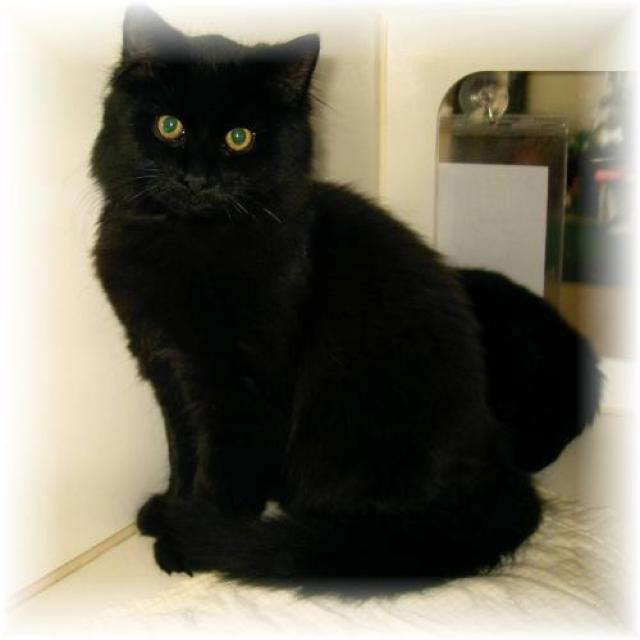Cats: (86, 2, 605, 584)
